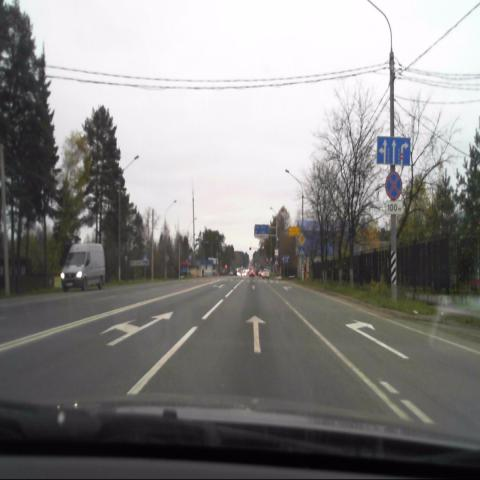8_1_1: (386, 201, 403, 215)
